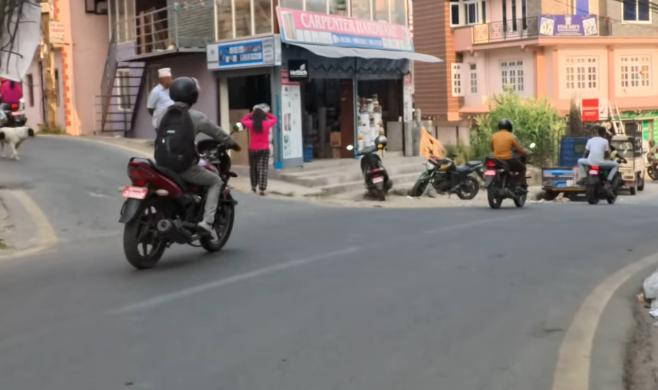bike: (117, 117, 248, 272), (409, 150, 484, 206), (480, 143, 532, 209), (345, 137, 392, 204)
